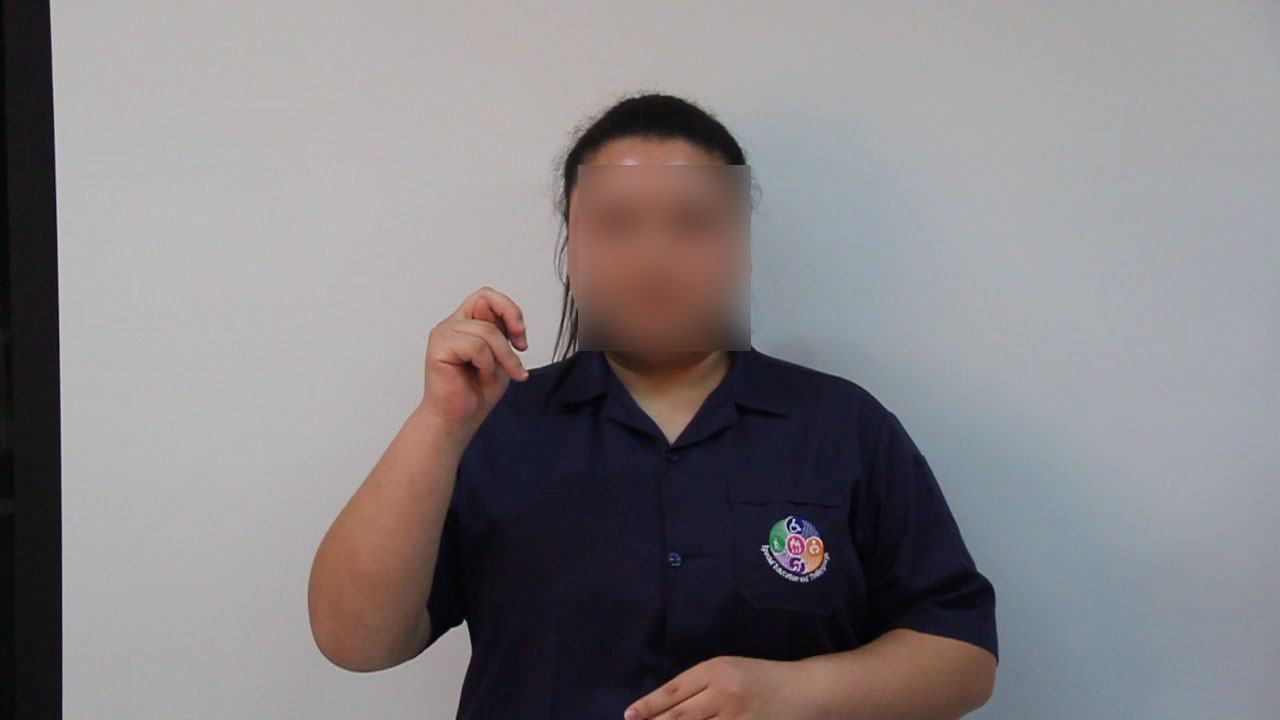nor: (398, 281, 544, 425)
